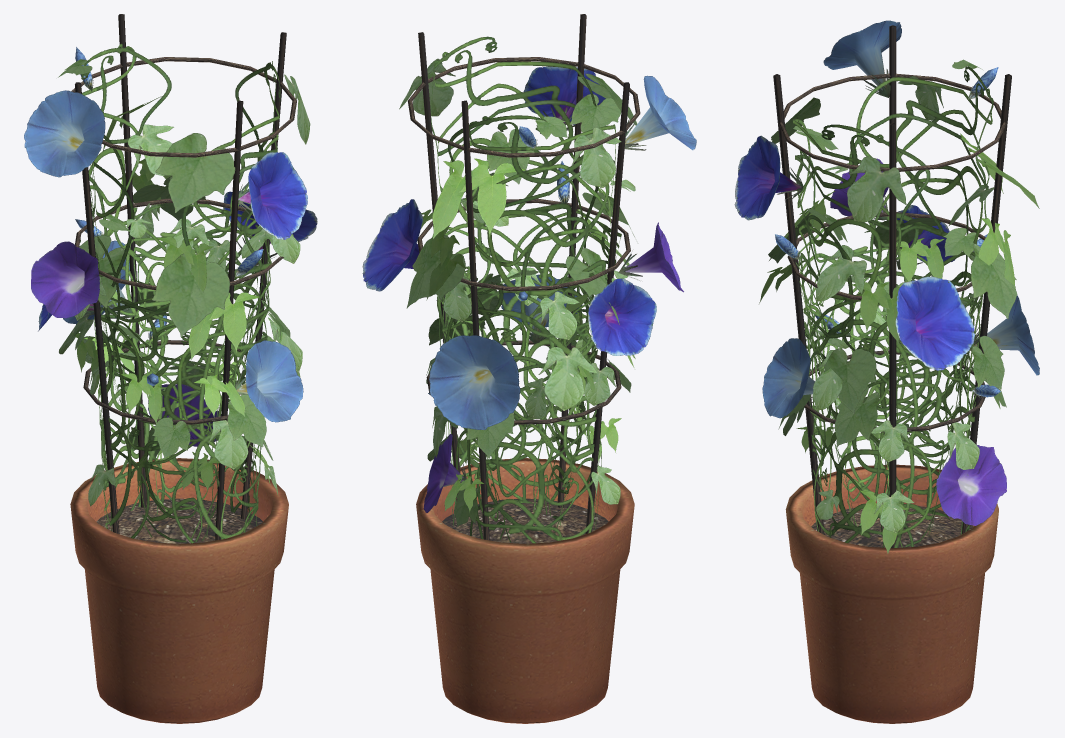
The model's file is FlowerMorningGlory01.fbx.
3 views of the same model, side by side, from view 1: azimuth 30°, elevation 25°; view 2: azimuth 150°, elevation 25°; view 3: azimuth 270°, elevation 25° (orthographic). The views are drawn at different scales.
Parts seen in each view (by area): view 1: FlowerMorningGlory01; view 2: FlowerMorningGlory01; view 3: FlowerMorningGlory01.
Boxes of the visible parts, left/top/right/bottom form: FlowerMorningGlory01: left=24, top=14, right=317, bottom=723; FlowerMorningGlory01: left=362, top=14, right=696, bottom=723; FlowerMorningGlory01: left=734, top=20, right=1039, bottom=723.
Size of the model in its own units: 42.42 by 82.14 by 38.22.
Materials: 1 (1 with a texture image).
